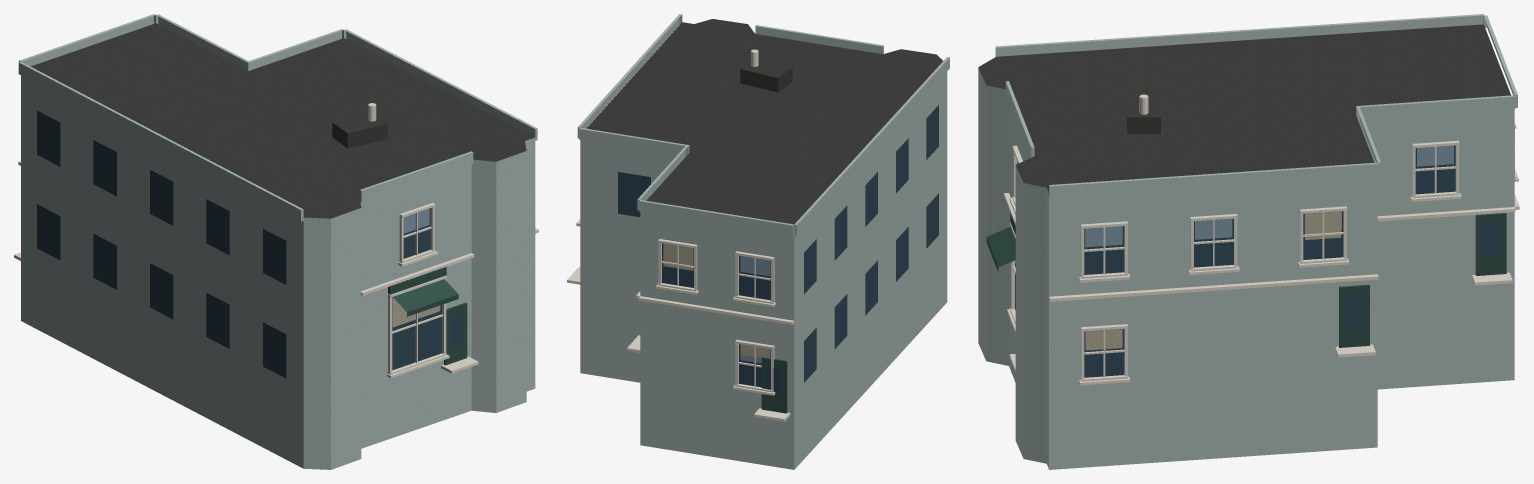
The picture shows the model from 3 angles, left to right: view 1: azimuth 30°, elevation 25°; view 2: azimuth 150°, elevation 25°; view 3: azimuth 270°, elevation 25°; orthographic projection. The views are drawn at different scales.
Parts seen in each view (by area): view 1: Footprint 0 / surface 2, Footprint 0 / surface 1, Inset glazing, Facade bay volumes, Cornices and window frames, Storefronts and doors, Inferred rooftop service enclosure / surface 5, Inferred rooftop service enclosure / surface 3; view 2: Footprint 0 / surface 2, Footprint 0 / surface 1, Inset glazing, Facade bay volumes, Cornices and window frames, Storefronts and doors, Interior blind variation, Sky reflection panels, Inferred rooftop service enclosure / surface 6, Inferred rooftop service enclosure / surface 3; view 3: Footprint 0 / surface 2, Footprint 0 / surface 1, Facade bay volumes, Cornices and window frames, Inset glazing, Storefronts and doors, Sky reflection panels, Interior blind variation, Inferred rooftop service enclosure / surface 3, Inferred rooftop service enclosure / surface 1.
Boxes of the visible parts, left/top/right/bottom form: Footprint 0 / surface 2: left=21, top=75, right=535, bottom=469; Footprint 0 / surface 1: left=31, top=23, right=534, bottom=218; Inset glazing: left=37, top=110, right=462, bottom=378; Facade bay volumes: left=18, top=14, right=537, bottom=221; Cornices and window frames: left=14, top=161, right=538, bottom=378; Storefronts and doors: left=388, top=267, right=467, bottom=365; Inferred rooftop service enclosure / surface 5: left=347, top=123, right=387, bottom=148; Inferred rooftop service enclosure / surface 3: left=332, top=113, right=387, bottom=133; Footprint 0 / surface 2: left=580, top=71, right=947, bottom=469; Footprint 0 / surface 1: left=587, top=19, right=942, bottom=224; Inset glazing: left=618, top=105, right=938, bottom=396; Facade bay volumes: left=577, top=14, right=949, bottom=236; Cornices and window frames: left=567, top=219, right=794, bottom=421; Storefronts and doors: left=761, top=357, right=787, bottom=413; Interior blind variation: left=663, top=244, right=770, bottom=358; Sky reflection panels: left=663, top=243, right=770, bottom=363; Inferred rooftop service enclosure / surface 6: left=740, top=69, right=778, bottom=92; Inferred rooftop service enclosure / surface 3: left=740, top=59, right=792, bottom=77; Footprint 0 / surface 2: left=978, top=68, right=1514, bottom=469; Footprint 0 / surface 1: left=978, top=24, right=1510, bottom=192; Facade bay volumes: left=995, top=14, right=1517, bottom=199; Cornices and window frames: left=1004, top=122, right=1519, bottom=385; Inset glazing: left=1015, top=145, right=1500, bottom=377; Storefronts and doors: left=986, top=213, right=1506, bottom=347; Sky reflection panels: left=1017, top=145, right=1453, bottom=349; Interior blind variation: left=1015, top=212, right=1341, bottom=350; Inferred rooftop service enclosure / surface 3: left=1127, top=95, right=1160, bottom=117; Inferred rooftop service enclosure / surface 1: left=1127, top=117, right=1160, bottom=133.
Bounding box in the file's own units: 14.49 × 12.07 × 19.15.
